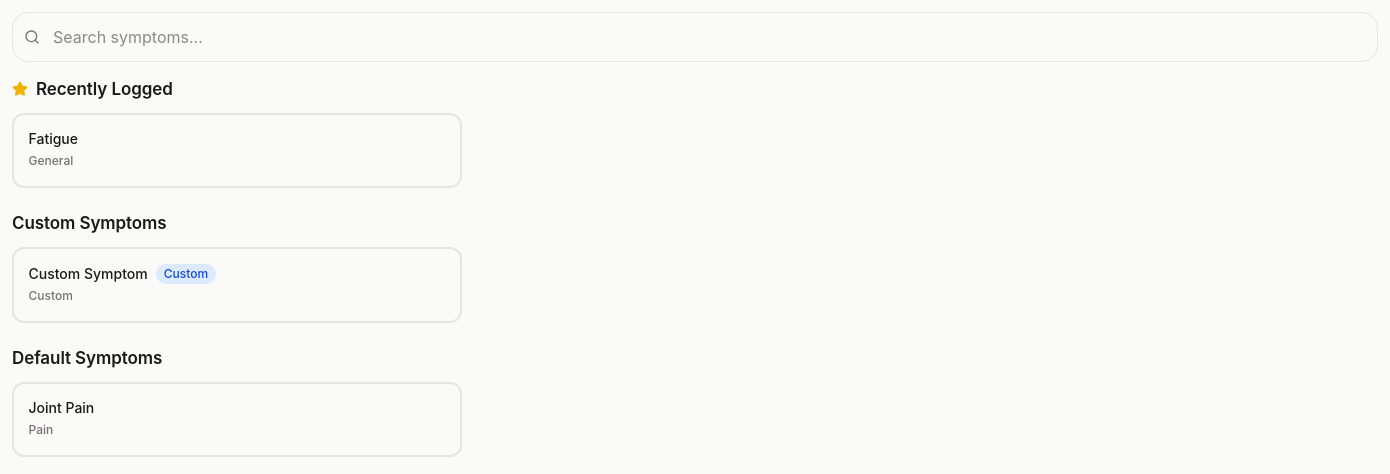
Test case: SymptomSelectionList › Empty states › shows message when search has no results
Type "xyz nonexistent" into the field with placeholder "Search symptoms...". click: (695, 37)
box: [12,12,1378,62]
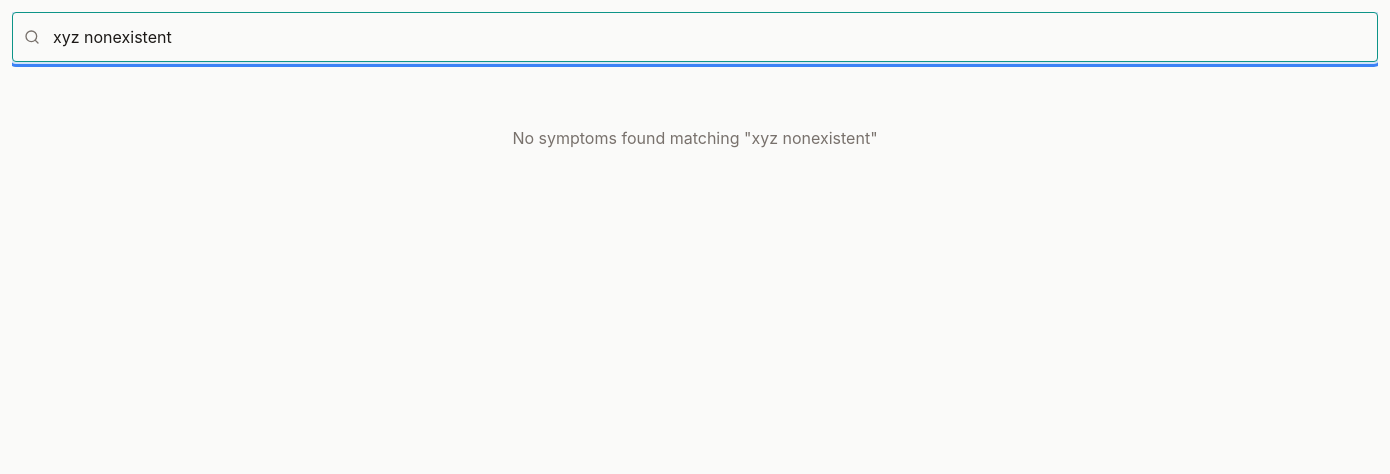
Check: the text "No symptoms found matching \"xyz nonexistent\"" is shown, box [512,128,878,148]
